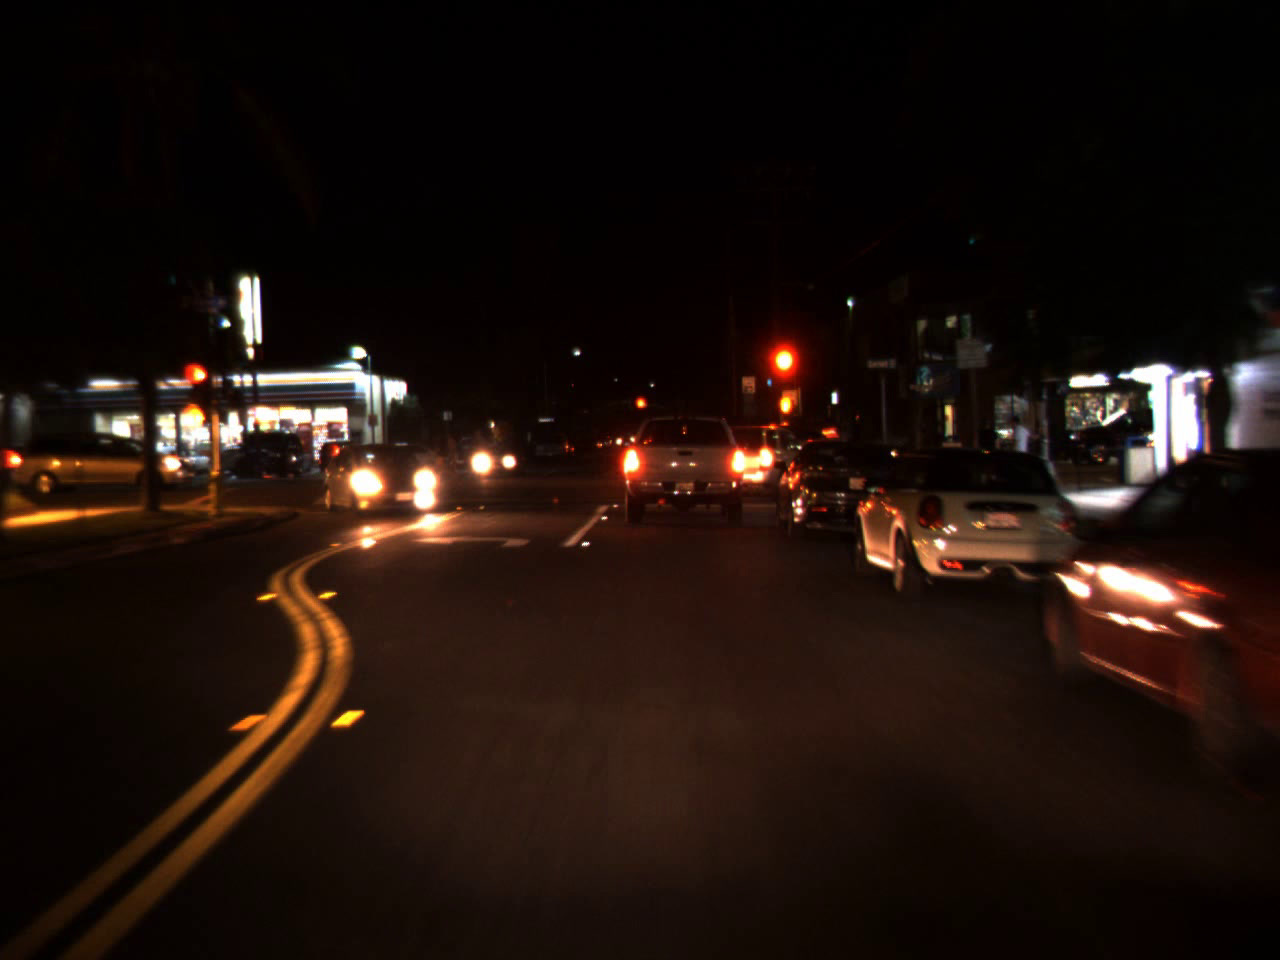stop: (767, 342, 795, 404), (180, 360, 211, 411), (635, 395, 647, 422)
